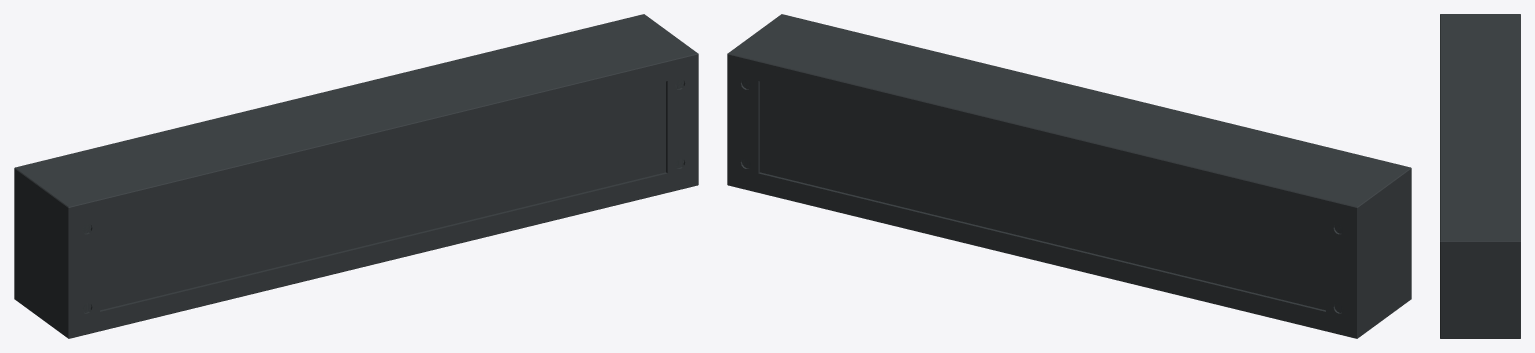
Rendered from girder.glb.
The picture shows the model from 3 angles, left to right: view 1: azimuth 30°, elevation 25°; view 2: azimuth 150°, elevation 25°; view 3: azimuth 270°, elevation 25°; orthographic projection. The views are drawn at different scales.
Visible parts, largest first — view 1: girder.002; view 2: girder.002; view 3: girder.002.
Part boxes in pixels (x1,y1,x2,y2): girder.002: (14,14,698,338); girder.002: (727,14,1411,338); girder.002: (1440,14,1520,338).
Size of the model in its own units: 2 by 0.4 by 0.3.
Materials: 1 (1 with a texture image).
